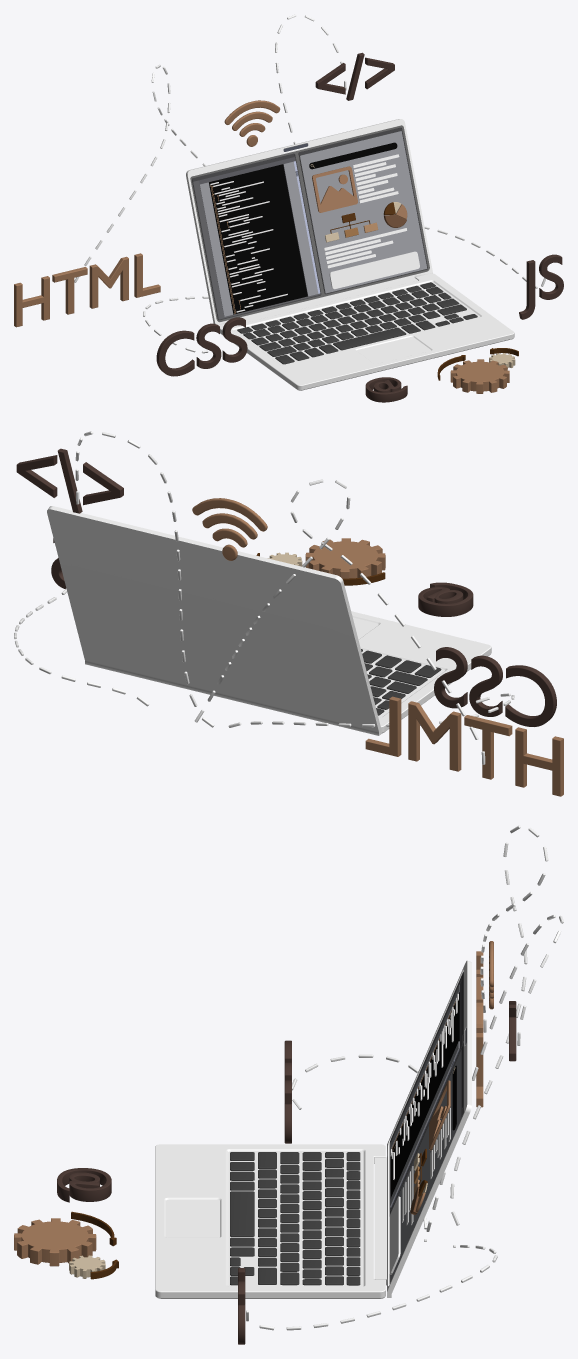
The model's file is frontend-laptop.glb.
3 views of the same model, one above another, from view 1: azimuth 30°, elevation 25°; view 2: azimuth 150°, elevation 25°; view 3: azimuth 270°, elevation 25° (orthographic). The views are drawn at different scales.
Parts seen in each view (by area): view 1: laptop_body, Window_2_detail_001, Window_1_detail_001, laptop_key_bord, Window_2_detail_002, laptop_screen, Window_1_detail_002, HTML, Gears, CSS, Lines, <> (+6 smaller); view 2: laptop_screen, HTML, laptop_body, CSS, Lines, Gears, laptop_key_bord, <>, Wi-Fi, @; view 3: laptop_body, laptop_key_bord, laptop_screen, Gears, Lines, Window_2_detail_001, Window_2_detail_002, Window_1_detail_001, Window_1_detail_002, @, HTML, CSS (+1 smaller).
Part boxes in pixels (bbox=[...]): laptop_body: bbox=[219, 273, 514, 390]; Window_2_detail_001: bbox=[192, 153, 321, 320]; Window_1_detail_001: bbox=[298, 127, 427, 294]; laptop_key_bord: bbox=[237, 282, 477, 364]; Window_2_detail_002: bbox=[193, 157, 320, 319]; laptop_screen: bbox=[186, 119, 432, 325]; Window_1_detail_002: bbox=[309, 142, 419, 289]; HTML: bbox=[14, 253, 160, 327]; Gears: bbox=[437, 348, 518, 393]; CSS: bbox=[156, 317, 247, 376]; Lines: bbox=[74, 14, 545, 353]; <>: bbox=[315, 52, 394, 100]; laptop_screen: bbox=[47, 506, 381, 735]; HTML: bbox=[365, 696, 563, 796]; laptop_body: bbox=[351, 611, 491, 733]; CSS: bbox=[434, 647, 556, 726]; Lines: bbox=[14, 431, 514, 764]; Gears: bbox=[256, 538, 385, 585]; laptop_key_bord: bbox=[361, 649, 441, 715]; <>: bbox=[16, 448, 123, 513]; Wi-Fi: bbox=[192, 498, 267, 560]; @: bbox=[418, 582, 473, 616]; laptop_body: bbox=[155, 1144, 385, 1298]; laptop_key_bord: bbox=[230, 1152, 360, 1285]; laptop_screen: bbox=[374, 960, 471, 1297]; Gears: bbox=[14, 1211, 118, 1279]; Lines: bbox=[246, 825, 563, 1330]; Window_2_detail_001: bbox=[389, 972, 463, 1211]; Window_2_detail_002: bbox=[390, 977, 461, 1209]; Window_1_detail_001: bbox=[389, 1044, 463, 1283]; Window_1_detail_002: bbox=[389, 1065, 456, 1274]; @: bbox=[57, 1168, 111, 1202]; HTML: bbox=[476, 951, 483, 1107]; CSS: bbox=[284, 1040, 291, 1143].
Size of the model in its own units: 10.39 by 5.32 by 7.69.
